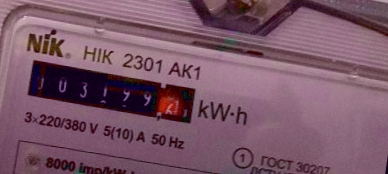0: (31, 69, 46, 91), (54, 72, 68, 94)
1: (98, 78, 110, 98)
3: (75, 78, 89, 98)
6: (163, 99, 175, 116)
9: (118, 82, 132, 103), (139, 87, 152, 107)
screen: (18, 54, 205, 132)
